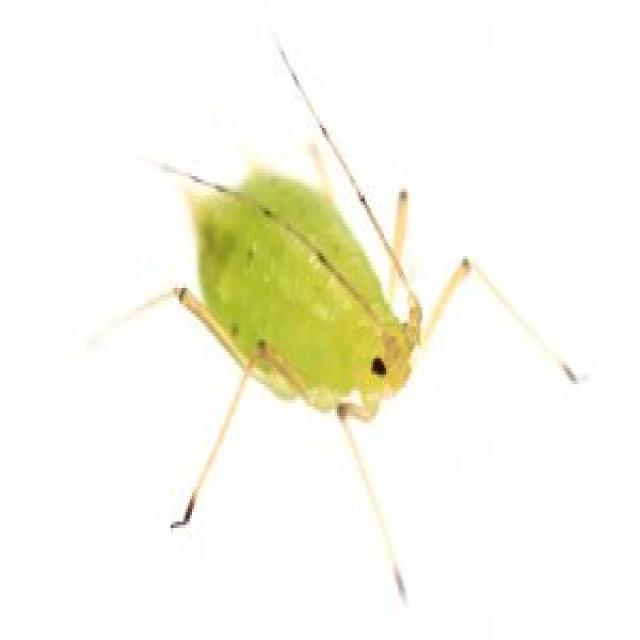Aphids: (83, 80, 595, 614)
